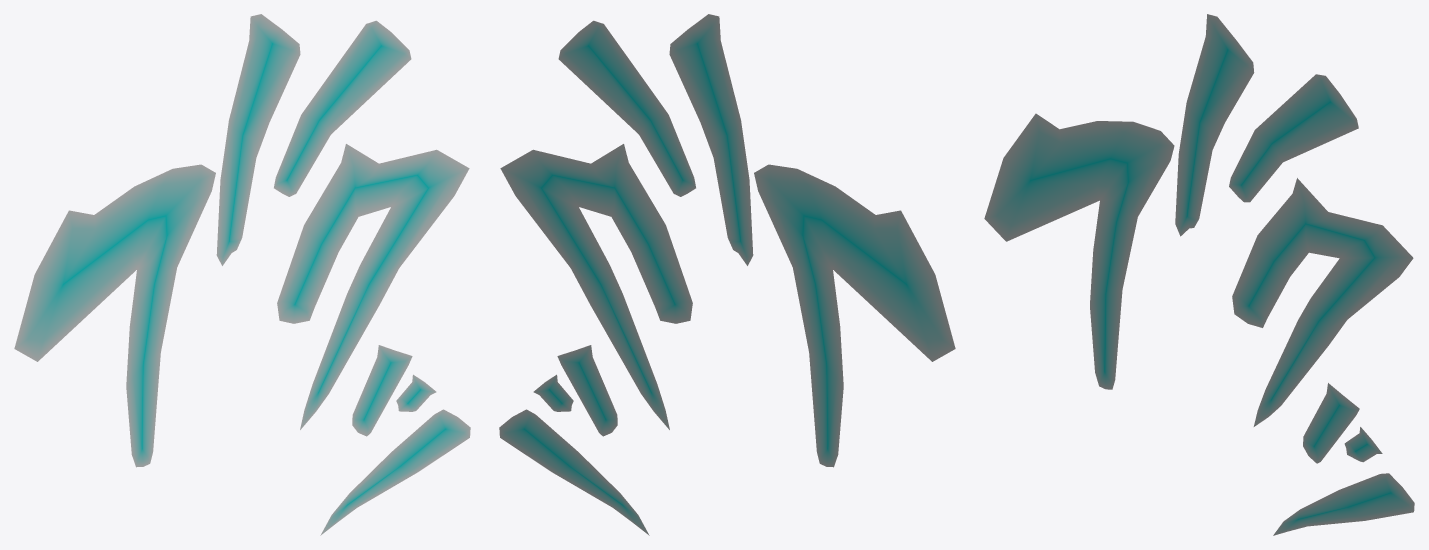
File: SM_EFF_Text_C4karura_01.glb
The picture shows the model from 3 angles, left to right: view 1: azimuth 30°, elevation 25°; view 2: azimuth 150°, elevation 25°; view 3: azimuth 330°, elevation 25°; orthographic projection. The views are drawn at different scales.
Visible parts, largest first — view 1: SM_EFF_Text_C4karura_01; view 2: SM_EFF_Text_C4karura_01; view 3: SM_EFF_Text_C4karura_01.
Part boxes in pixels (box(x1,y1,x2,y2)): SM_EFF_Text_C4karura_01: box(14, 14, 470, 535); SM_EFF_Text_C4karura_01: box(499, 14, 955, 535); SM_EFF_Text_C4karura_01: box(984, 14, 1414, 535).
Size of the model in its own units: 0.9641 by 1.08 by 4.81e-16.
